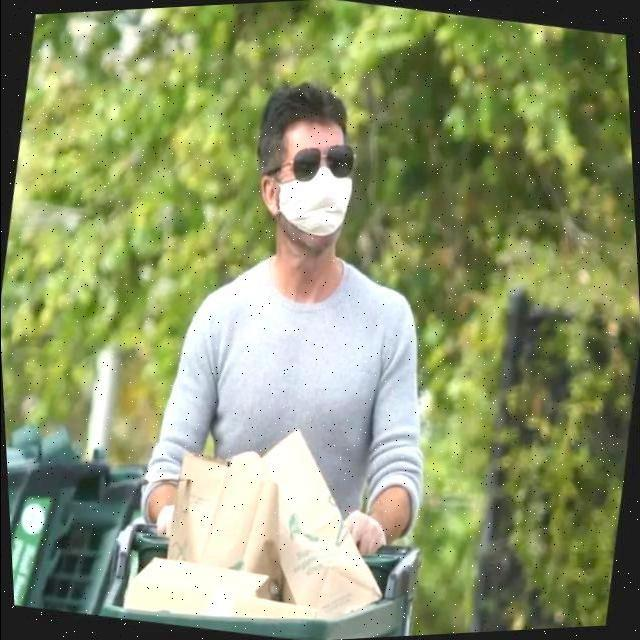apron: (348, 515, 388, 563), (144, 508, 174, 540)
mask: (280, 176, 356, 224)
no_gloves: (254, 81, 354, 137)
